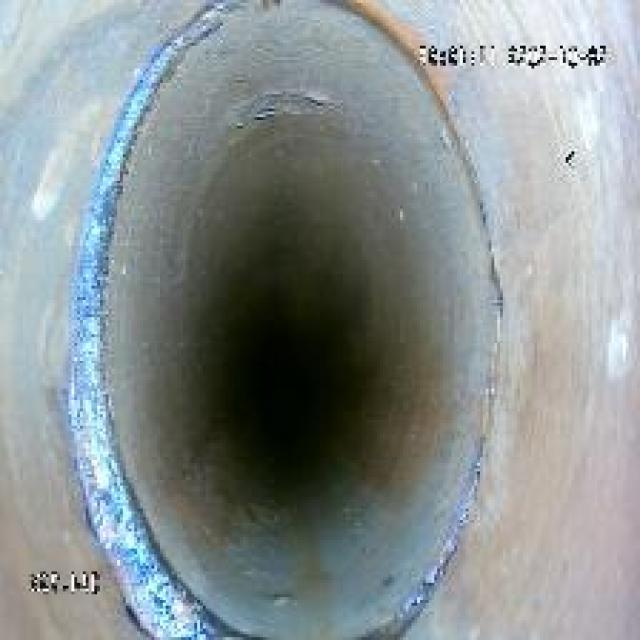joint: (66, 3, 514, 634)
